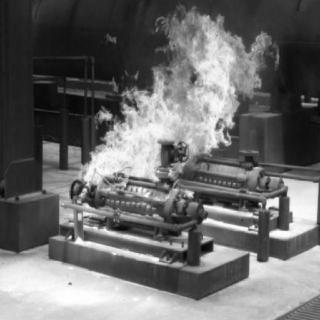Fire: (73, 4, 283, 198)
